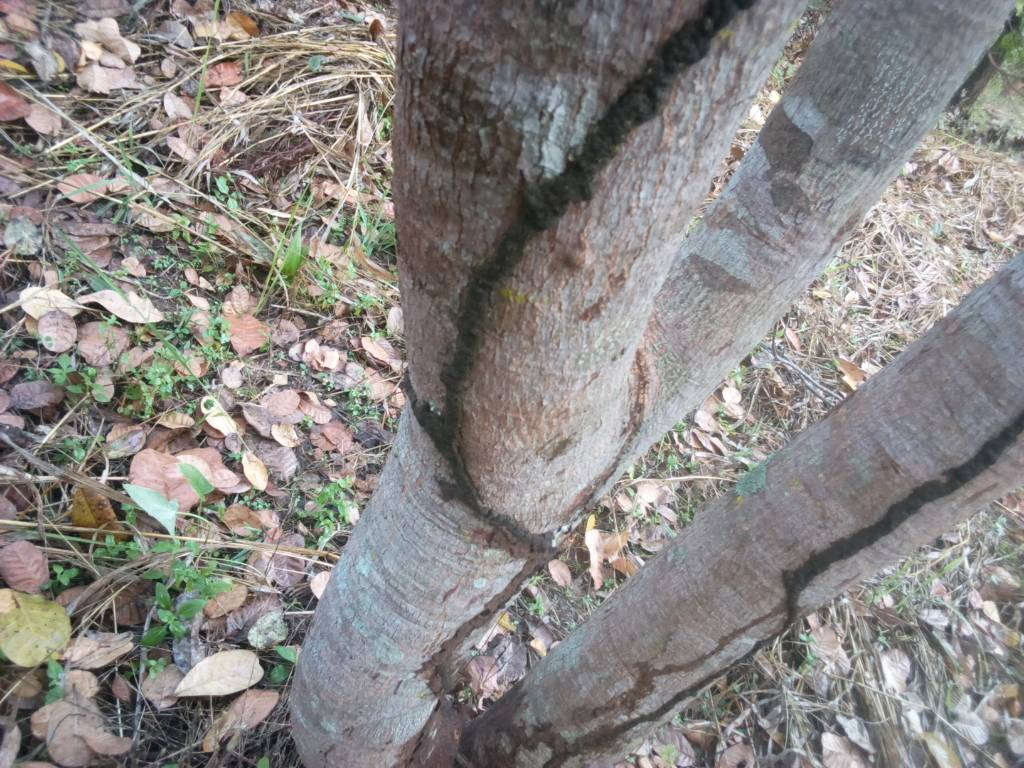Termites: (443, 204, 554, 572), (573, 6, 737, 161), (451, 670, 703, 768), (768, 501, 888, 614), (915, 421, 1024, 494)
